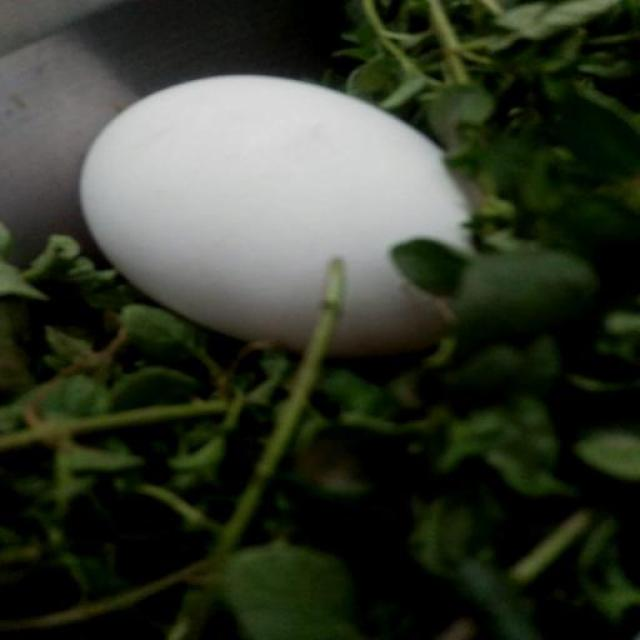telur: (81, 75, 482, 352)
